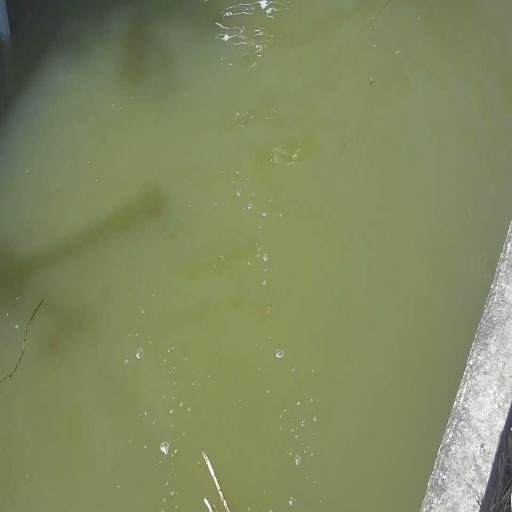twig: (196, 444, 251, 512)
